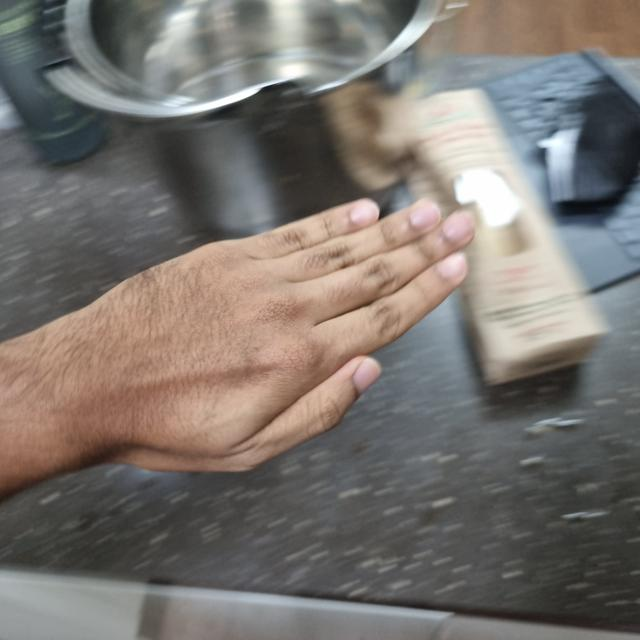Paper: (62, 0, 640, 469)
